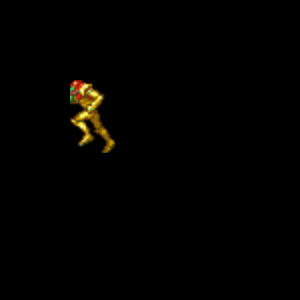Collectible: (70, 80, 115, 153)
